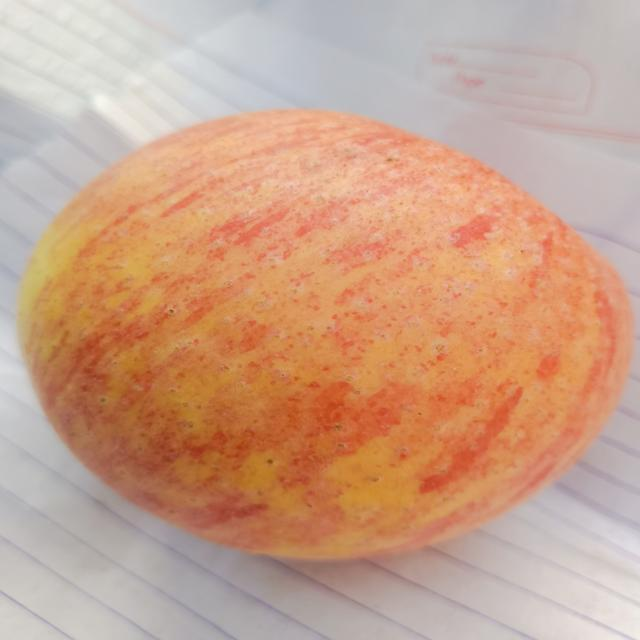Fresh Apple: (17, 103, 630, 565)
